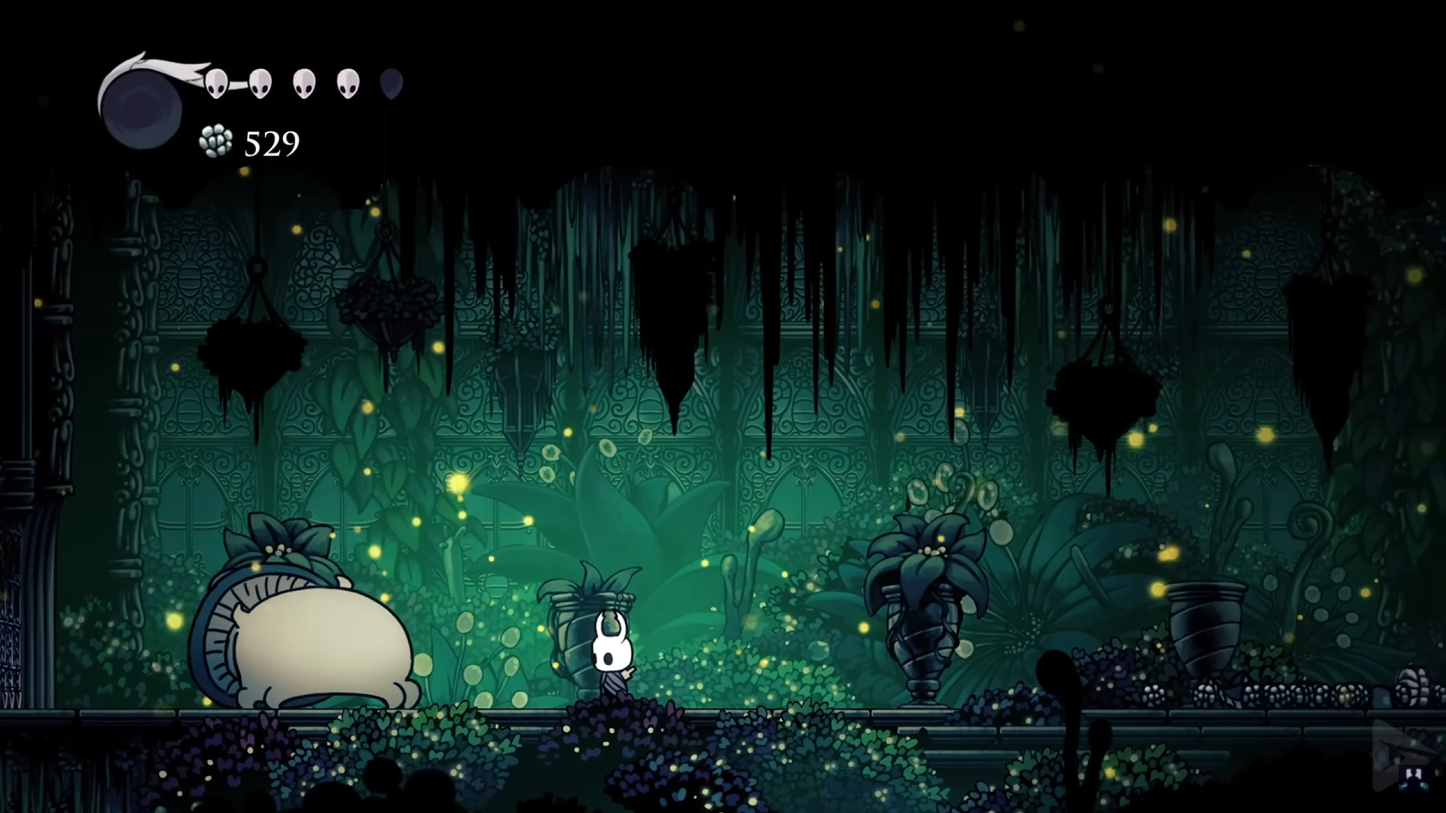HK: (582, 604, 643, 703)
